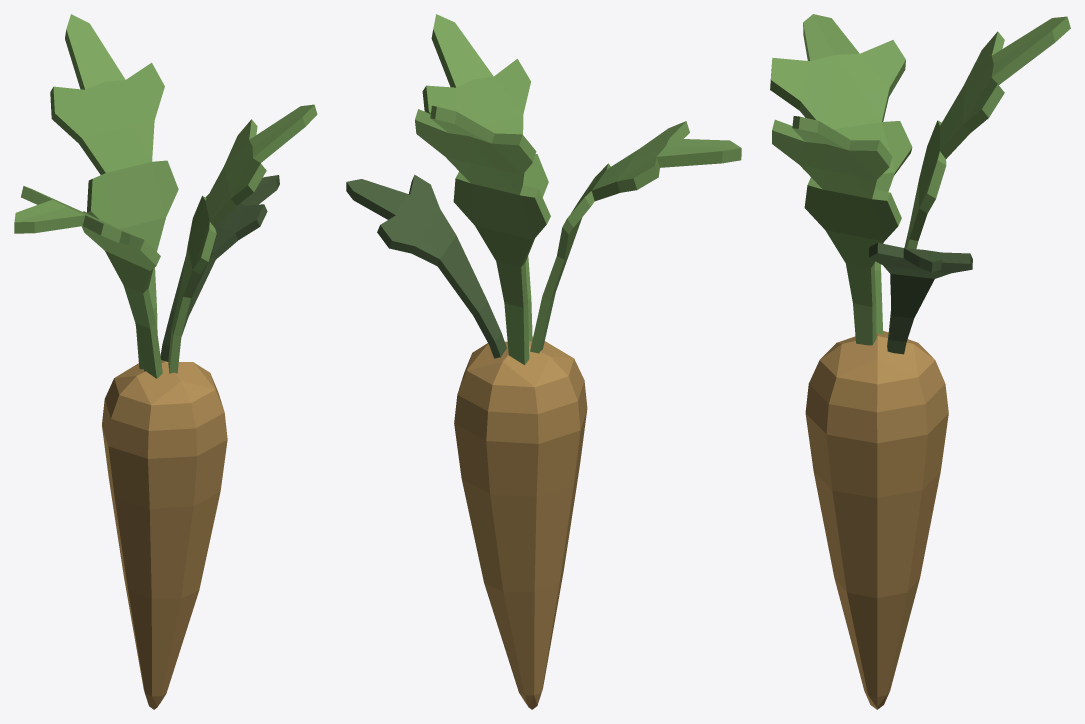
File: Carrot_4.glb
The picture shows the model from 3 angles, left to right: view 1: azimuth 30°, elevation 25°; view 2: azimuth 150°, elevation 25°; view 3: azimuth 270°, elevation 25°; orthographic projection. The views are drawn at different scales.
Parts seen in each view (by area): view 1: Carrot_4_Cylinder.004; view 2: Carrot_4_Cylinder.004; view 3: Carrot_4_Cylinder.004.
Boxes of the visible parts, x1,y1,x2,y2 form: Carrot_4_Cylinder.004: (14, 14, 317, 709); Carrot_4_Cylinder.004: (346, 14, 741, 709); Carrot_4_Cylinder.004: (770, 14, 1070, 709).
Bounding box in the file's own units: 0.6765 × 1.28 × 0.5016.
